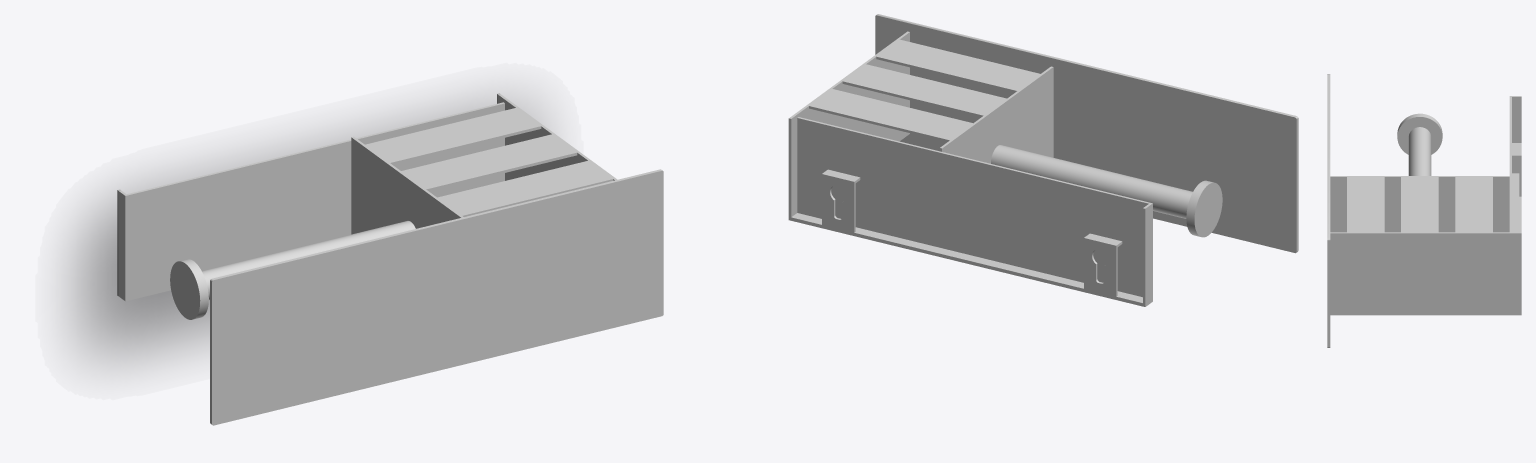
Rendered from skyline-duetto.d70f93fab1.ar.glb.
The picture shows the model from 3 angles, left to right: view 1: azimuth 30°, elevation 25°; view 2: azimuth 150°, elevation 25°; view 3: azimuth 270°, elevation 25°; orthographic projection. The views are drawn at different scales.
Visible parts, largest first — view 1: NAUO1, object 2; view 2: NAUO1; view 3: NAUO1.
Boxes of the visible parts, x1,y1,x2,y2 form: NAUO1: (117,93,663,425); object 2: (70,102,536,360); NAUO1: (788,14,1298,306); NAUO1: (1327,74,1521,347).
Bounding box in the file's own units: 0.34 × 0.16 × 0.129.
Materials: 2 (1 with a texture image).
